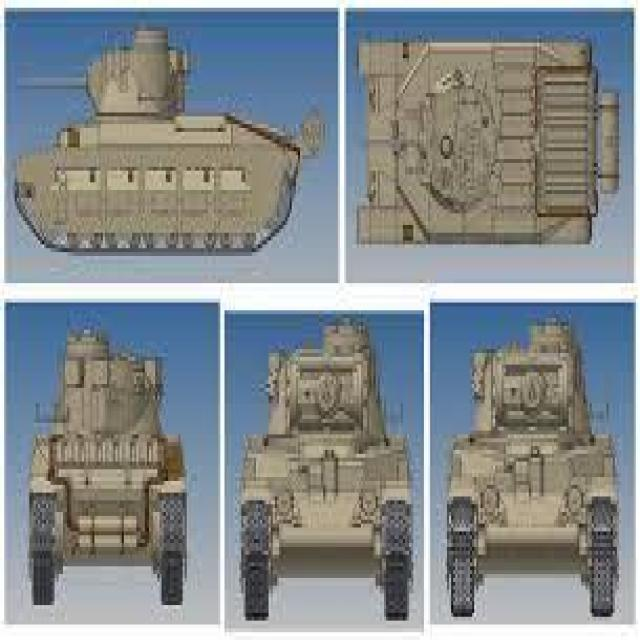Tanks: (20, 29, 305, 262), (358, 18, 620, 254), (239, 330, 420, 624), (448, 310, 620, 617), (32, 328, 193, 615)
